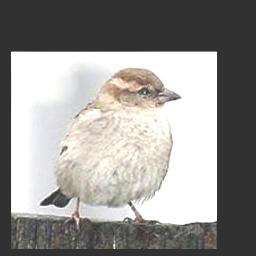Sparrow: (39, 66, 182, 232)
